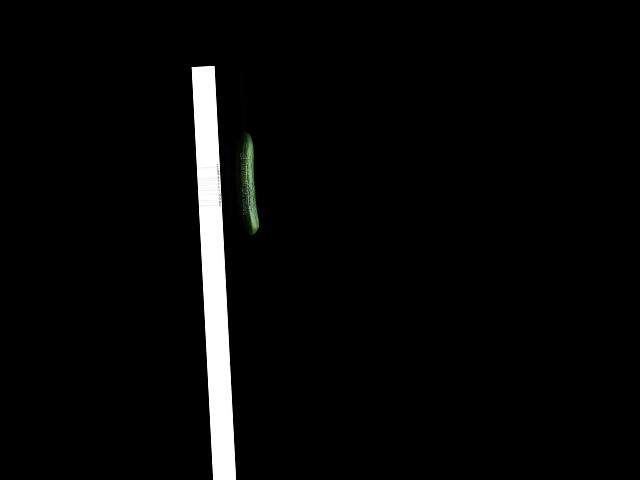cucumber: (238, 132, 258, 235)
